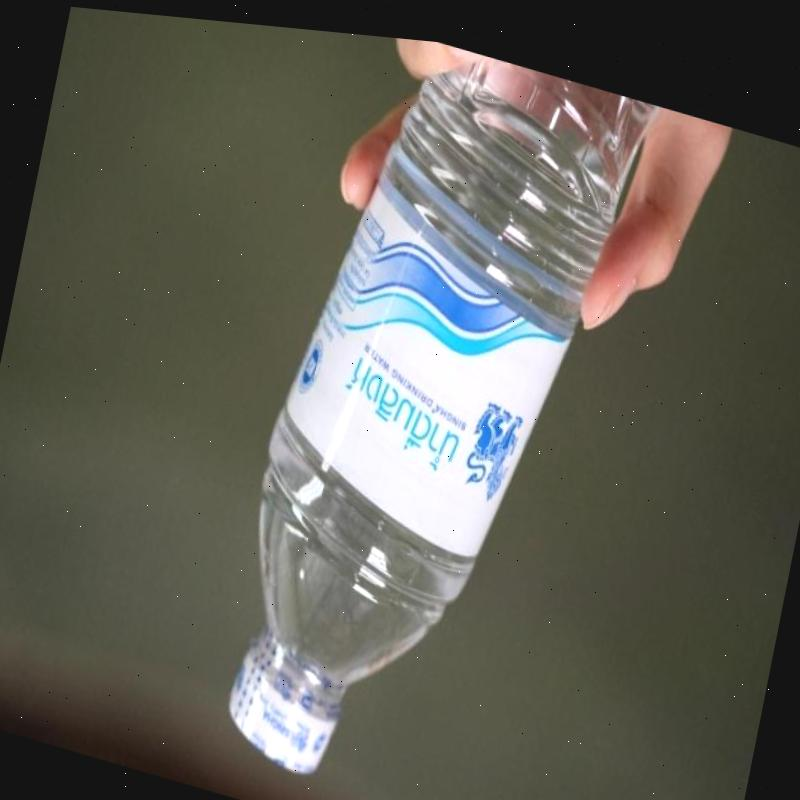botella: (207, 16, 660, 800)
